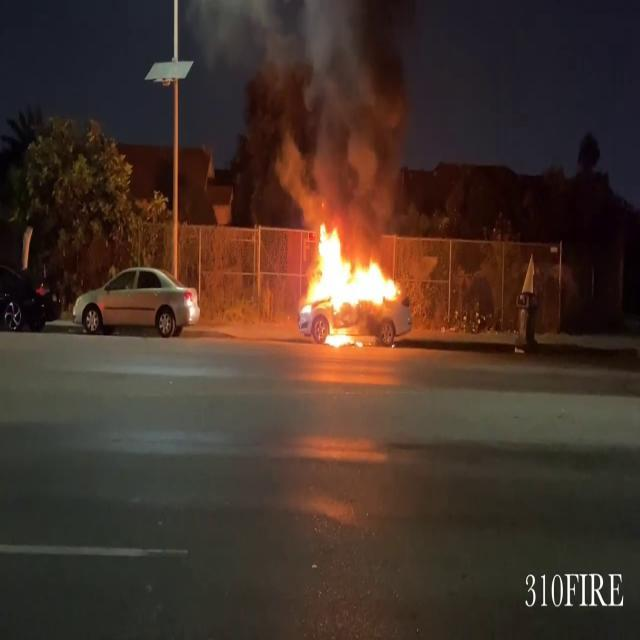Fire: (297, 216, 403, 334)
Smoke: (237, 1, 418, 216)
